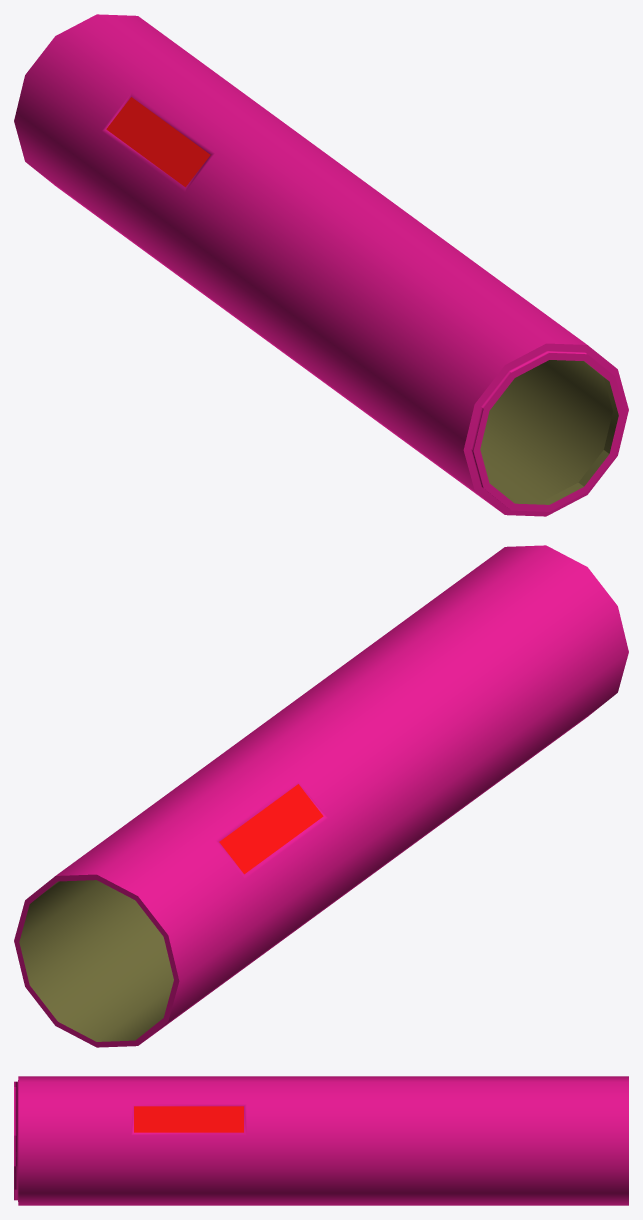
Rendered from tunnel_straight_window.FBX.
3 views of the same model, one above another, from view 1: azimuth 30°, elevation 25°; view 2: azimuth 150°, elevation 25°; view 3: azimuth 270°, elevation 25° (orthographic). The views are drawn at different scales.
Visible parts, largest first — view 1: lowpoly_material ID_unity; view 2: lowpoly_material ID_unity; view 3: lowpoly_material ID_unity.
Boxes of the visible parts, <box> form: lowpoly_material ID_unity: <box>14,14,628,516</box>; lowpoly_material ID_unity: <box>14,545,628,1047</box>; lowpoly_material ID_unity: <box>14,1076,628,1205</box>.
Bounding box in the file's own units: 3207 × 3207 × 15209.
